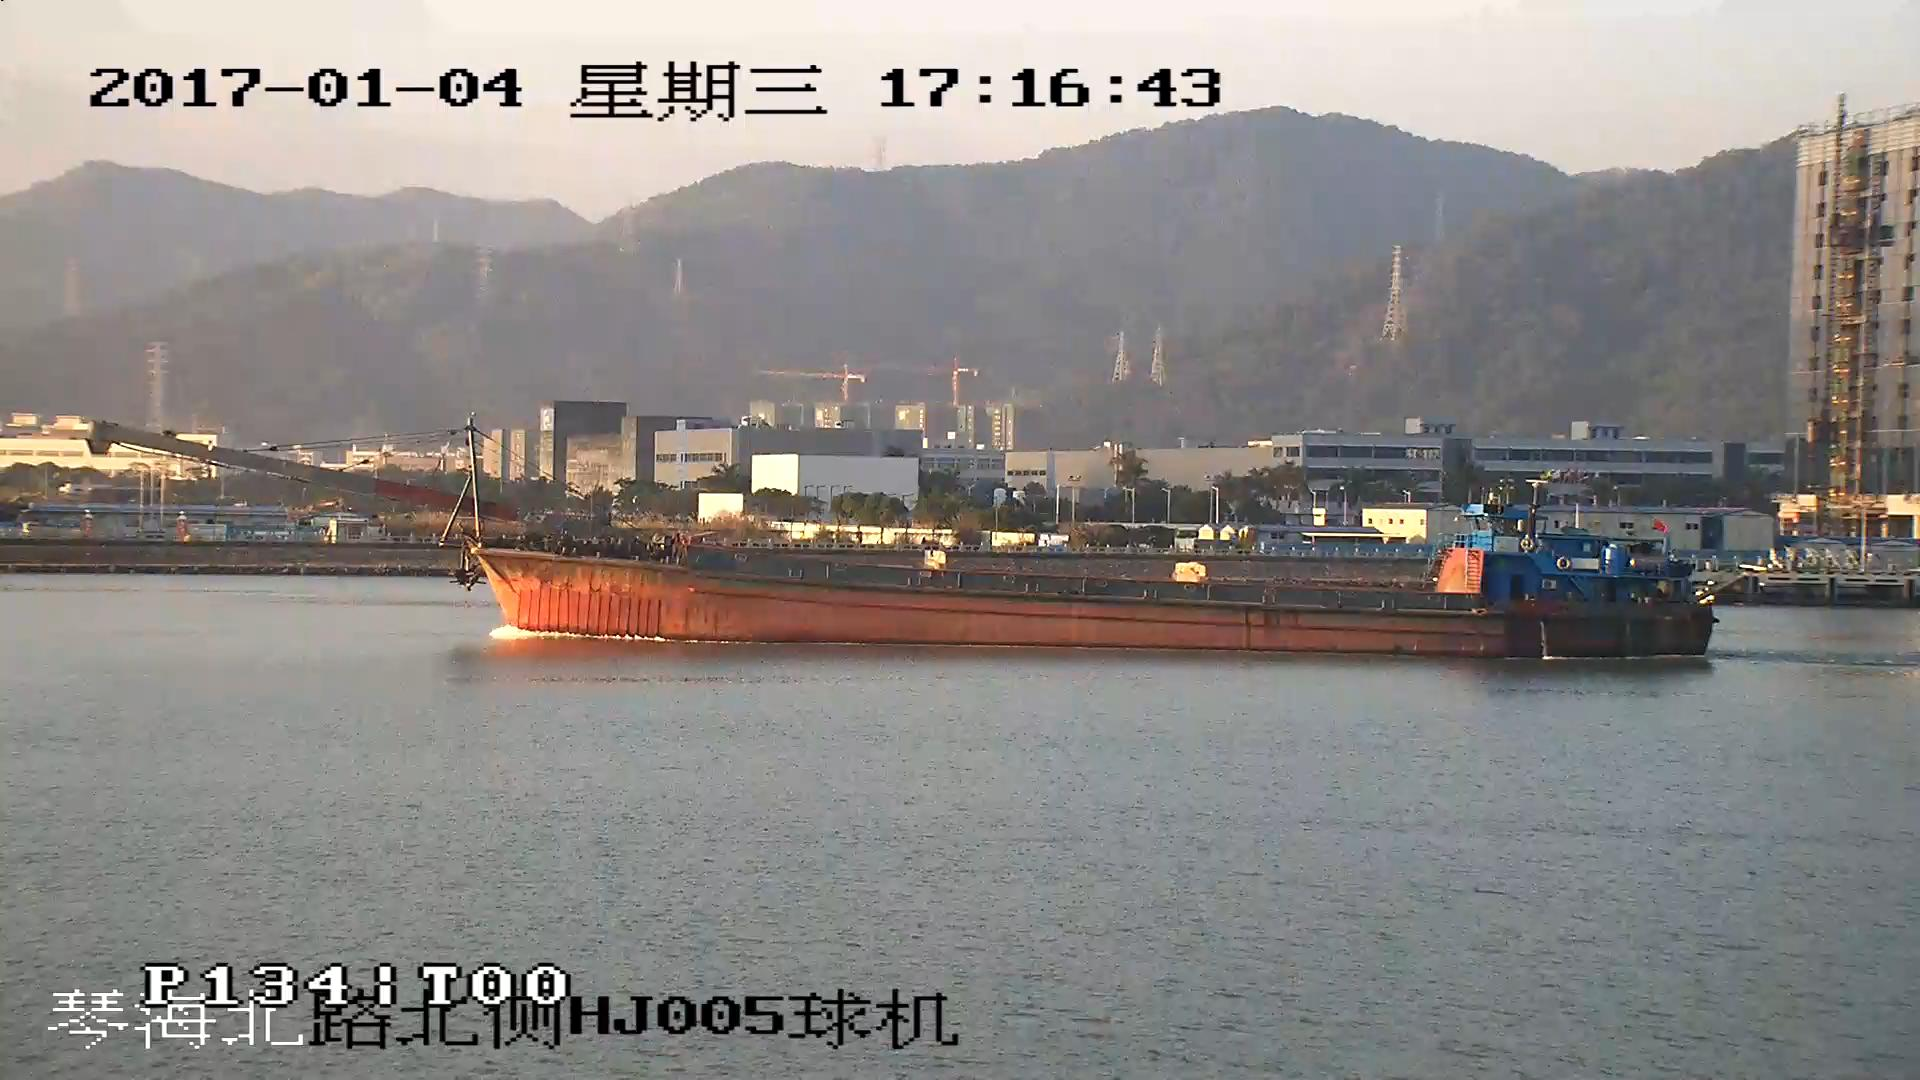bulk cargo carrier: (89, 420, 1712, 658)
